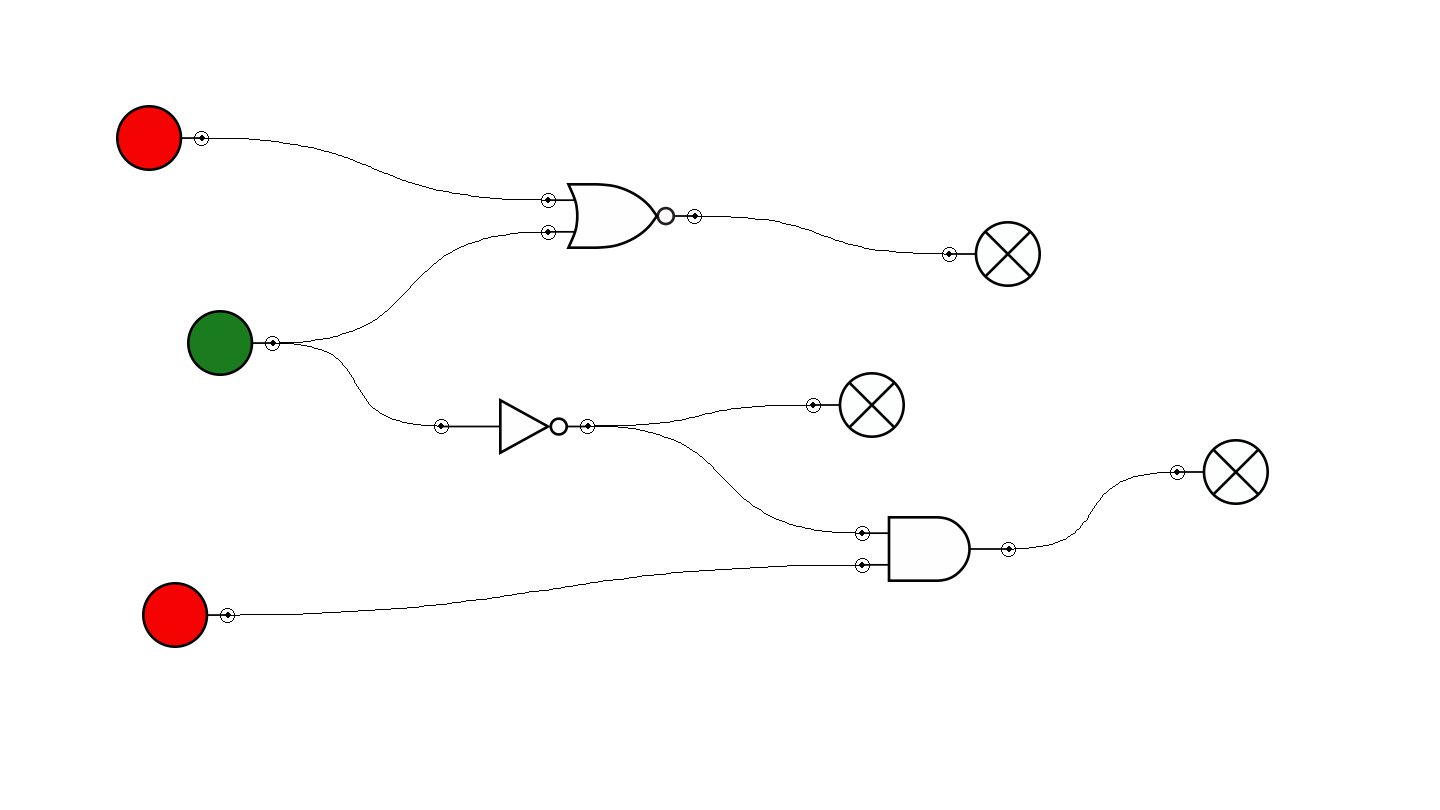and: (855, 516, 1016, 582)
bulb: (942, 221, 1041, 287), (806, 372, 905, 438), (1170, 439, 1269, 505)
nor: (541, 183, 702, 249)
not: (434, 398, 595, 455)
switch_False: (142, 582, 235, 648), (116, 105, 209, 171)
switch_True: (187, 310, 280, 376)
